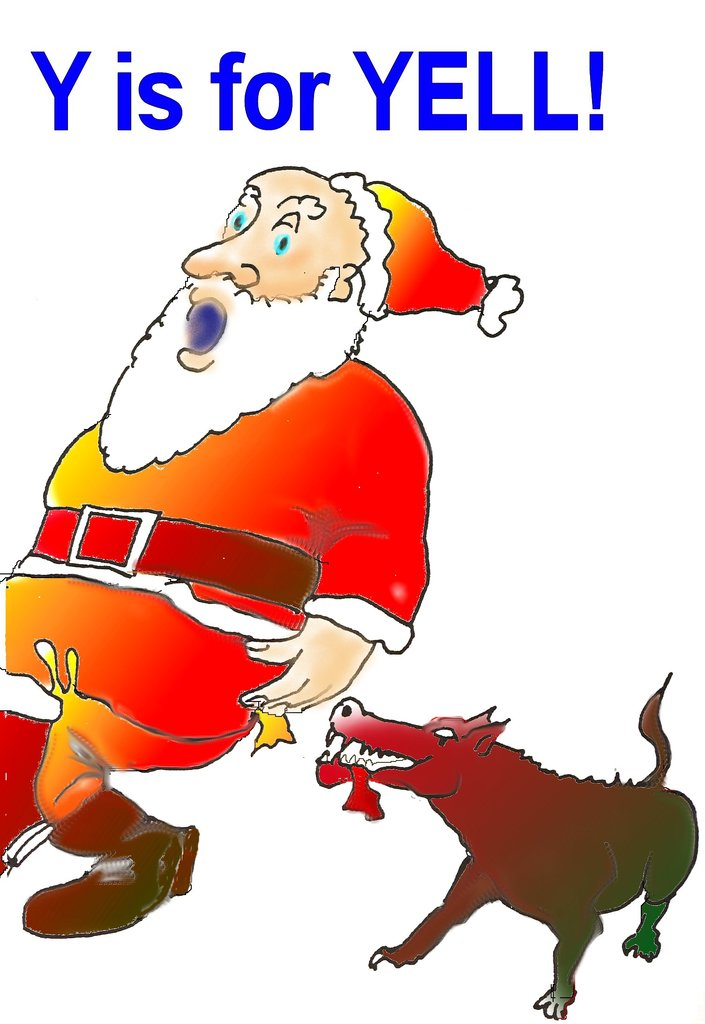Animal: (312, 666, 699, 1021)
